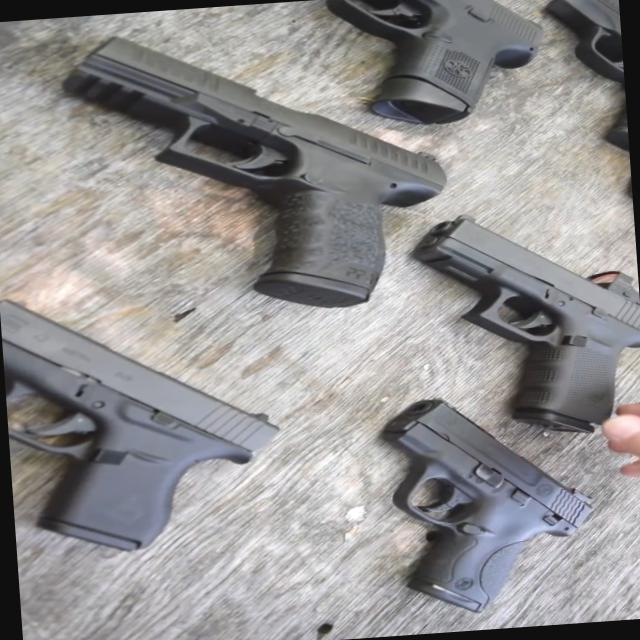handgun: (74, 11, 441, 336), (0, 282, 302, 588), (368, 360, 597, 620), (425, 200, 639, 446), (326, 0, 532, 144)
